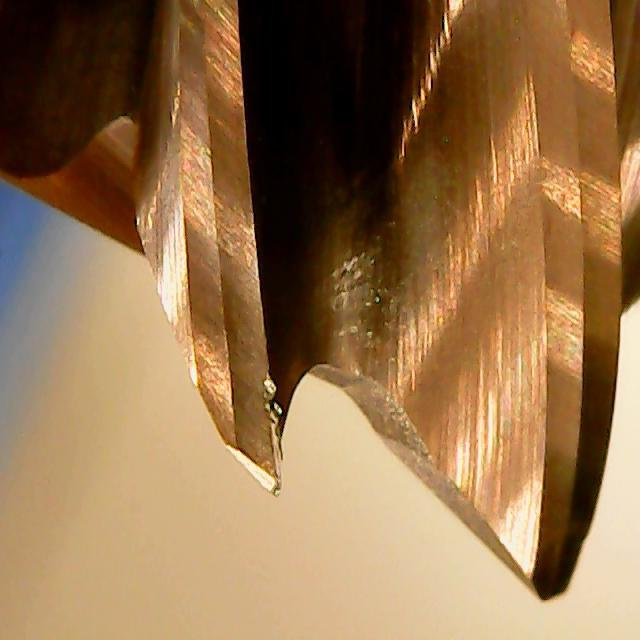Tool-wear-class-1: (190, 186, 292, 500)
